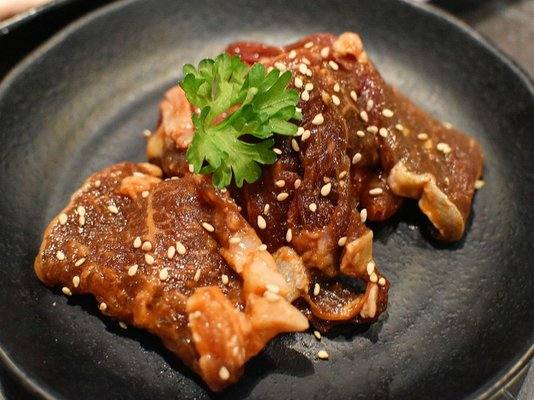soup: (31, 28, 494, 358)
